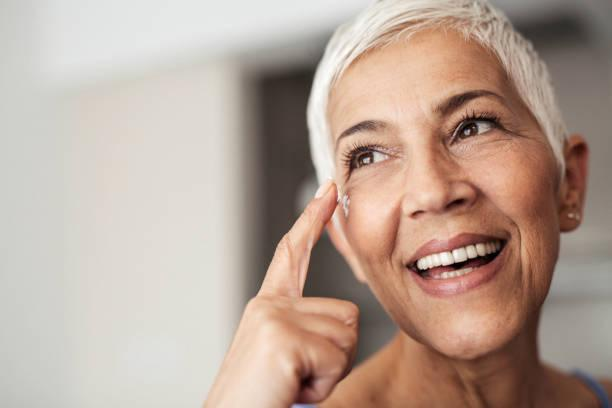Dry-Skin: (496, 188, 564, 306), (344, 42, 455, 97)
